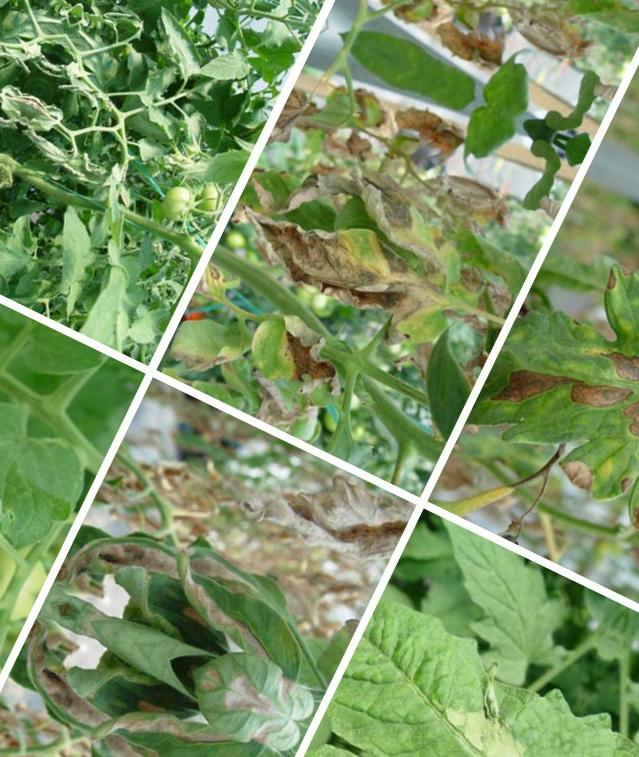Tomato leaf bacterial spot: (468, 223, 639, 538)
